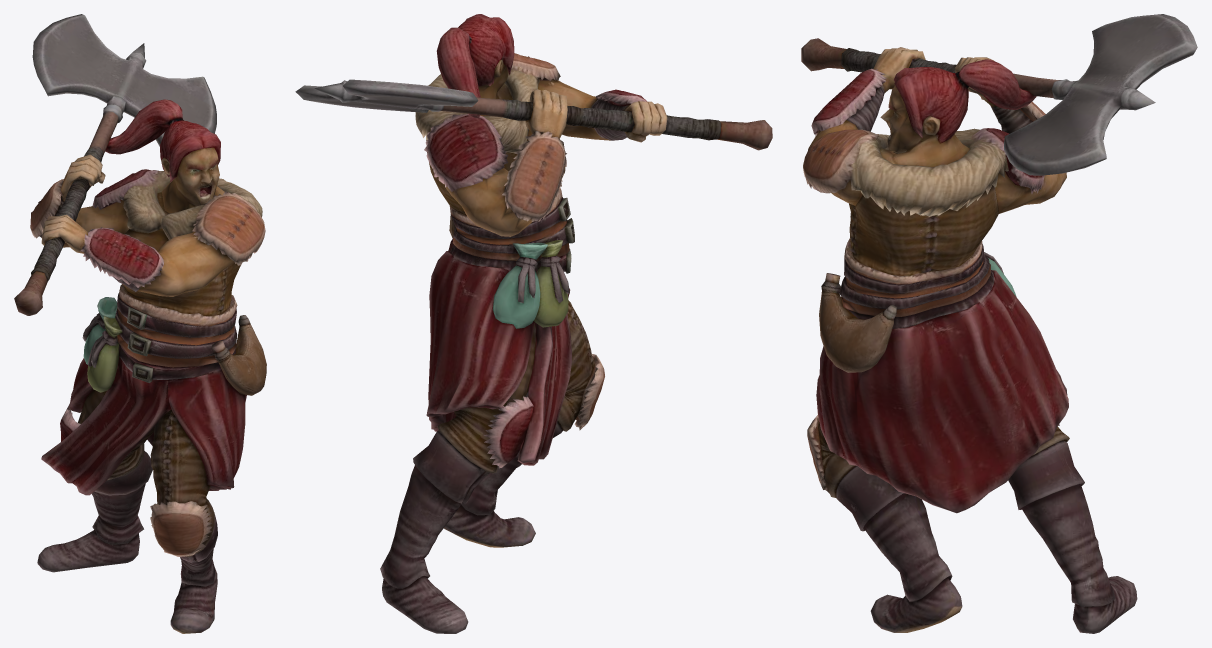
Rendered from MZ4250 - Berserker Female 01.glb.
3 views of the same model, side by side, from view 1: azimuth 30°, elevation 25°; view 2: azimuth 150°, elevation 25°; view 3: azimuth 270°, elevation 25° (orthographic). The views are drawn at different scales.
Parts seen in each view (by area): view 1: BerserkerFemale; view 2: BerserkerFemale; view 3: BerserkerFemale.
Part boxes in pixels (x1,y1,x2,y2): BerserkerFemale: (14, 14, 266, 633); BerserkerFemale: (295, 14, 772, 633); BerserkerFemale: (801, 14, 1197, 633).
Bounding box in the file's own units: 0.7233 × 1.14 × 0.6878.
Materials: 1 (1 with a texture image).
